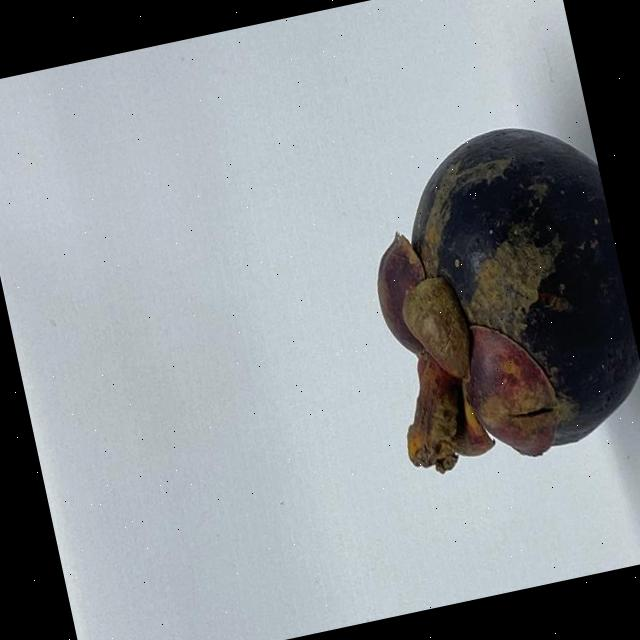mangosteen: (297, 91, 640, 511)
